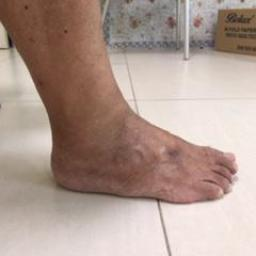Lateral View -Right Foot-: (24, 72, 250, 218)
